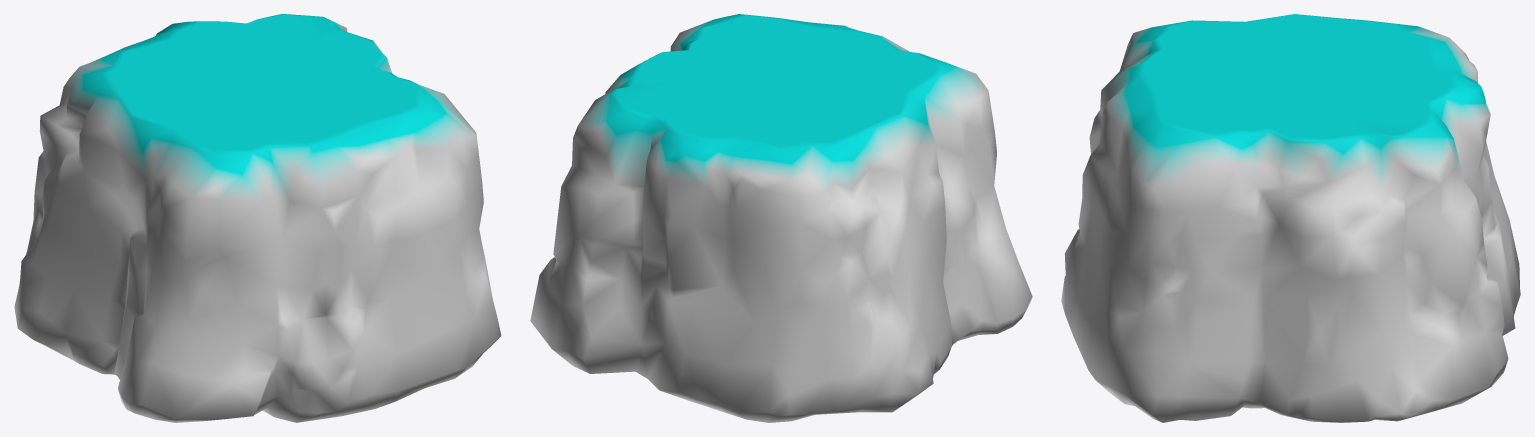
The model's file is Homeworld_Exterior_Common_Rockery_01_Lod0.fbx.
3 views of the same model, side by side, from view 1: azimuth 30°, elevation 25°; view 2: azimuth 150°, elevation 25°; view 3: azimuth 270°, elevation 25° (orthographic). The views are drawn at different scales.
Visible parts, largest first — view 1: Homeworld_Exterior_Common_Rockery_01_Lod0; view 2: Homeworld_Exterior_Common_Rockery_01_Lod0; view 3: Homeworld_Exterior_Common_Rockery_01_Lod0.
Part boxes in pixels (x1,y1,x2,y2): Homeworld_Exterior_Common_Rockery_01_Lod0: (14,14,501,422); Homeworld_Exterior_Common_Rockery_01_Lod0: (530,14,1032,422); Homeworld_Exterior_Common_Rockery_01_Lod0: (1061,14,1520,422).
Size of what is drawn, in the model's own units: 17.63 by 11.91 by 17.77.
